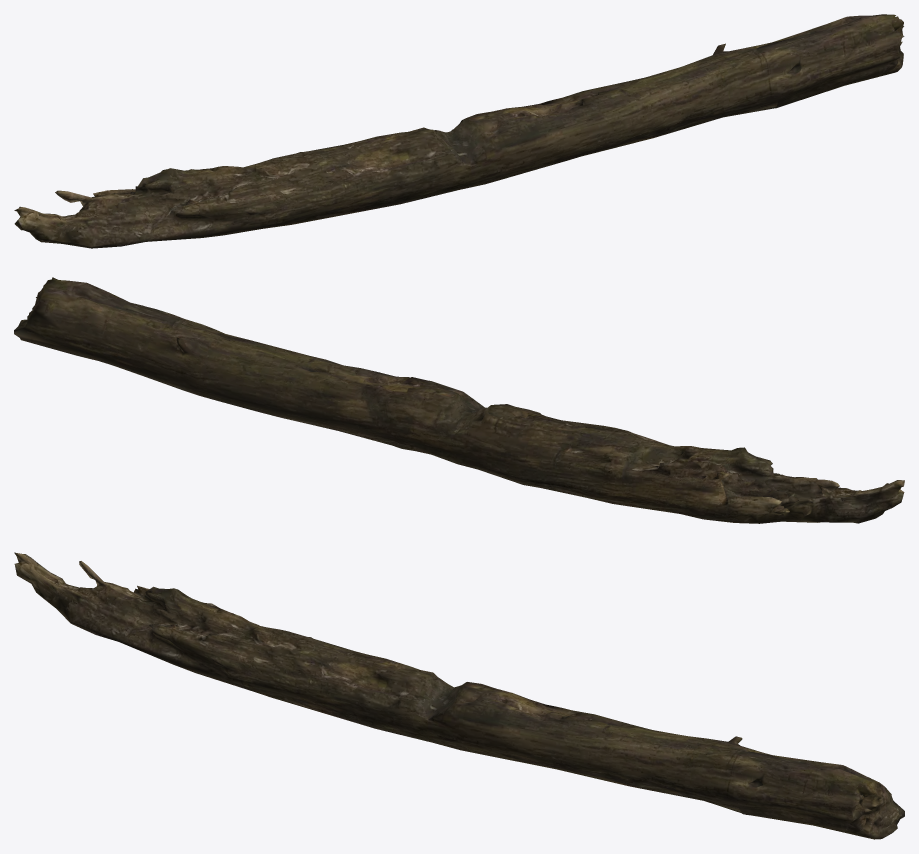
File: scene-dead-tree.glb
3 renders of one model, top to bottom at view 1: azimuth 30°, elevation 25°; view 2: azimuth 150°, elevation 25°; view 3: azimuth 330°, elevation 25°, orthographic.
Visible parts, largest first — view 1: dead_tree_trunk; view 2: dead_tree_trunk; view 3: dead_tree_trunk.
Part boxes in pixels (bbox=[...]): dead_tree_trunk: bbox=[14, 14, 904, 248]; dead_tree_trunk: bbox=[14, 277, 904, 523]; dead_tree_trunk: bbox=[14, 552, 904, 839].
Bounding box in the file's own units: 3.05 × 0.2867 × 0.2763.
1 material, 1 textured.
